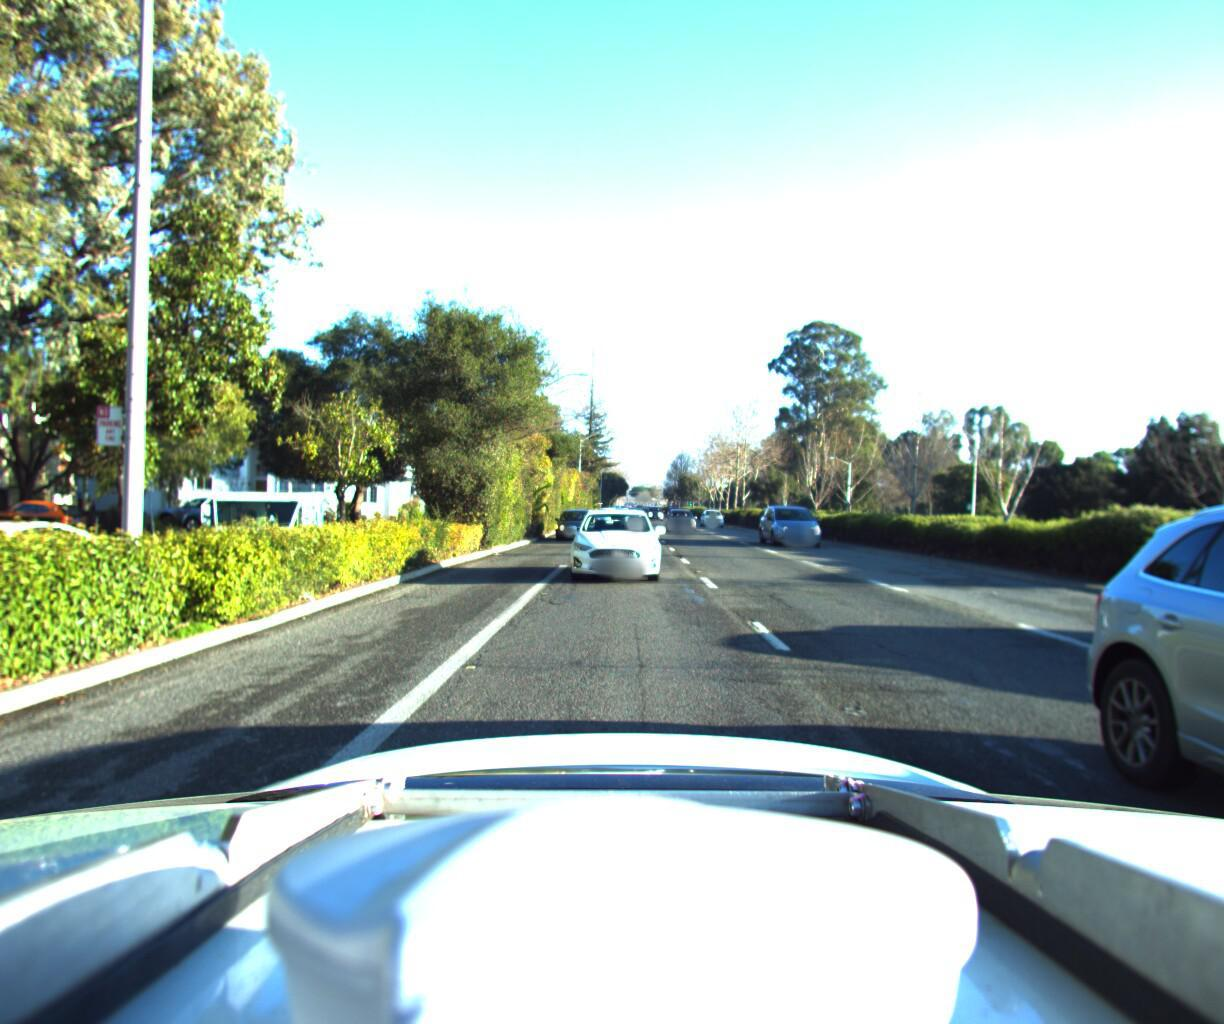car: (0, 511, 120, 637), (564, 498, 664, 579), (0, 494, 96, 546), (762, 496, 834, 542), (1176, 515, 1224, 582), (179, 496, 268, 528), (542, 494, 590, 533), (665, 499, 699, 525), (702, 499, 728, 519)
truck: (192, 485, 329, 578)
